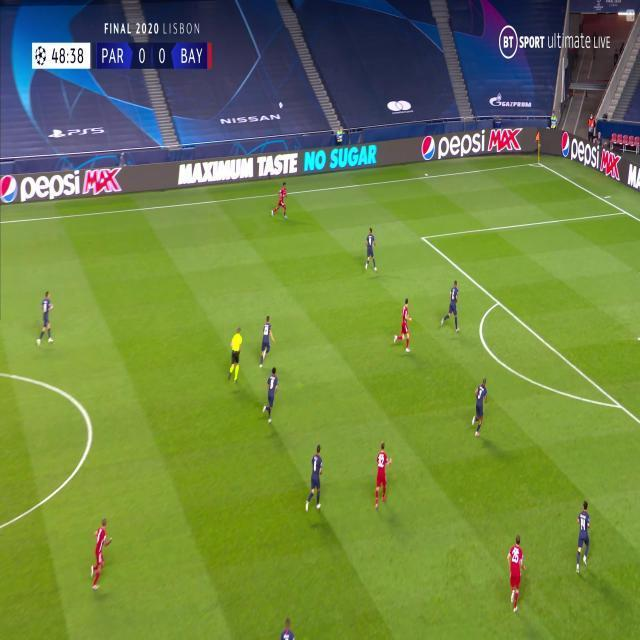ball: (279, 101, 284, 110)
player: (90, 517, 112, 589), (506, 535, 526, 612), (373, 441, 393, 511), (574, 500, 592, 576), (305, 444, 324, 515), (393, 297, 413, 353), (441, 280, 461, 335), (471, 377, 489, 437), (261, 367, 279, 425), (37, 291, 55, 347), (258, 315, 275, 368), (271, 183, 289, 219), (365, 227, 378, 273), (280, 618, 297, 640)
referee: (227, 328, 244, 385)
